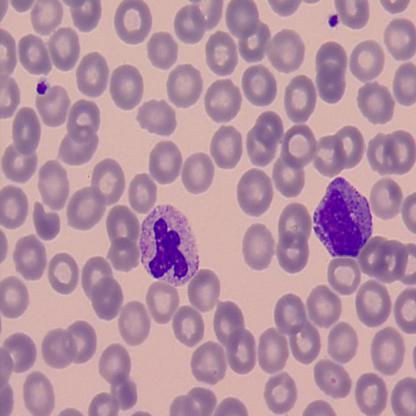Myelocyte: (312, 176, 373, 258), (141, 206, 202, 282)
